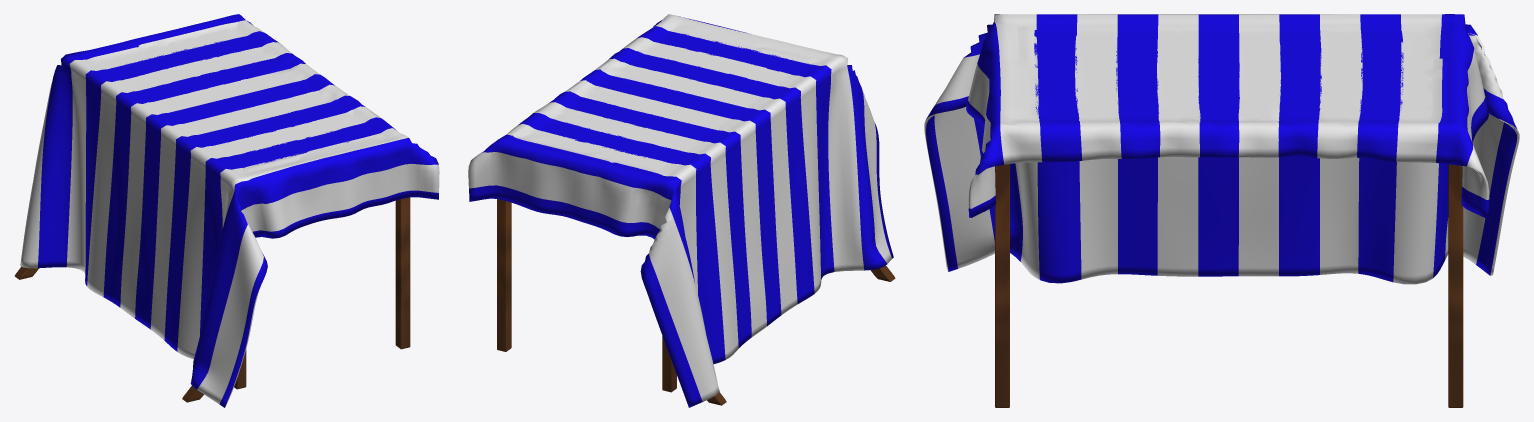
File: Canopy02.glb
3 renders of one model, left to right at view 1: azimuth 30°, elevation 25°; view 2: azimuth 150°, elevation 25°; view 3: azimuth 270°, elevation 25°, orthographic. The views are drawn at different scales.
Parts seen in each view (by area): view 1: canopy2; view 2: canopy2; view 3: canopy2.
Part boxes in pixels (x1,y1,x2,y2): canopy2: (14, 14, 439, 407); canopy2: (468, 14, 895, 407); canopy2: (924, 14, 1519, 407).
Bounding box in the file's own units: 7.7 × 6.31 × 12.
Materials: 3 (1 with a texture image).
